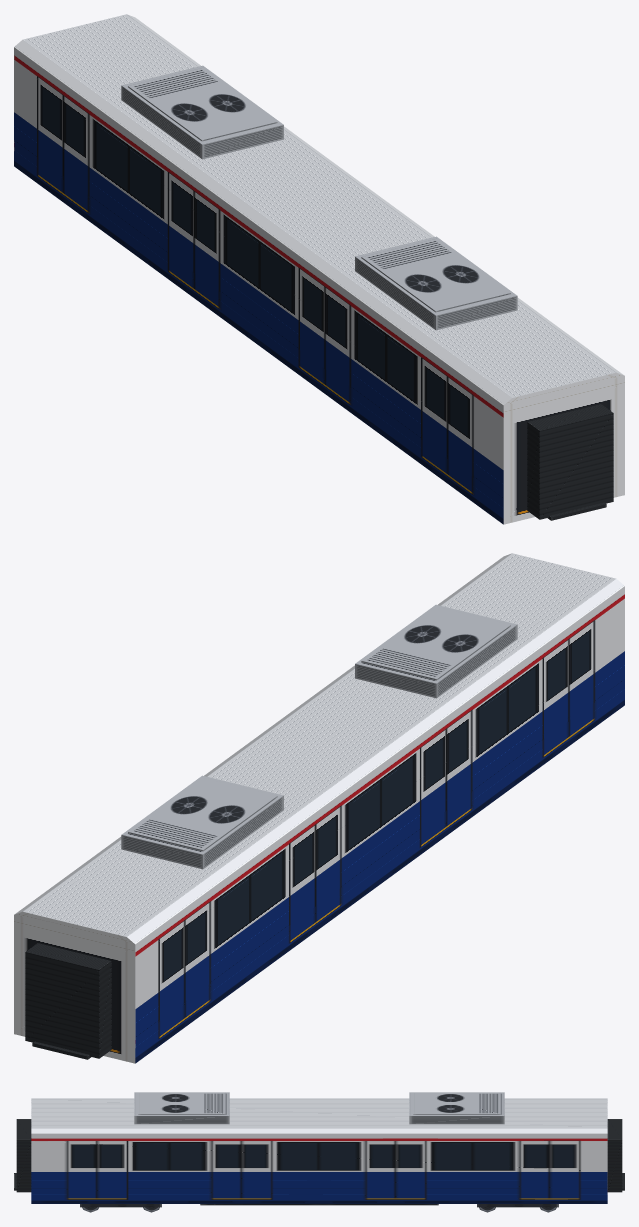
The model's file is BTS_Train_Middle.glb.
3 renders of one model, top to bottom at view 1: azimuth 30°, elevation 25°; view 2: azimuth 150°, elevation 25°; view 3: azimuth 270°, elevation 25°, orthographic. The views are drawn at different scales.
Visible parts, largest first — view 1: BTS_Train_Middle; view 2: BTS_Train_Middle; view 3: BTS_Train_Middle.
Boxes of the visible parts, box(x1,y1,x2,y2) form: BTS_Train_Middle: box(14, 14, 624, 524); BTS_Train_Middle: box(14, 553, 624, 1063); BTS_Train_Middle: box(14, 1092, 624, 1212).
Bounding box in the file's own units: 3.12 × 4.19 × 23.1.
Materials: 1 (1 with a texture image).
